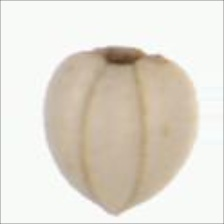L5: (76, 63, 150, 217), (79, 46, 169, 68)
L6: (40, 44, 202, 218)
